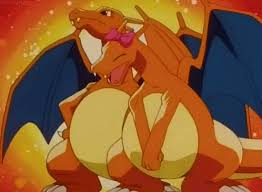charizard: (91, 1, 260, 192), (8, 2, 154, 192)
